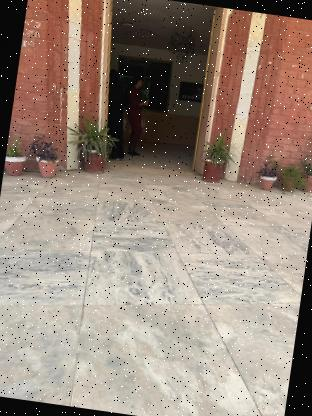door: (84, 0, 232, 180)
